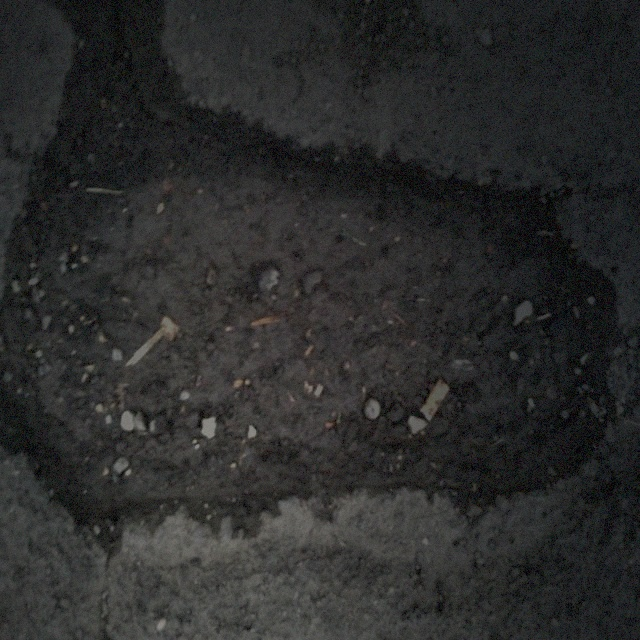pothole: (7, 63, 611, 558)
